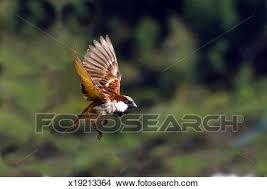hsparrow: (67, 35, 140, 146)
